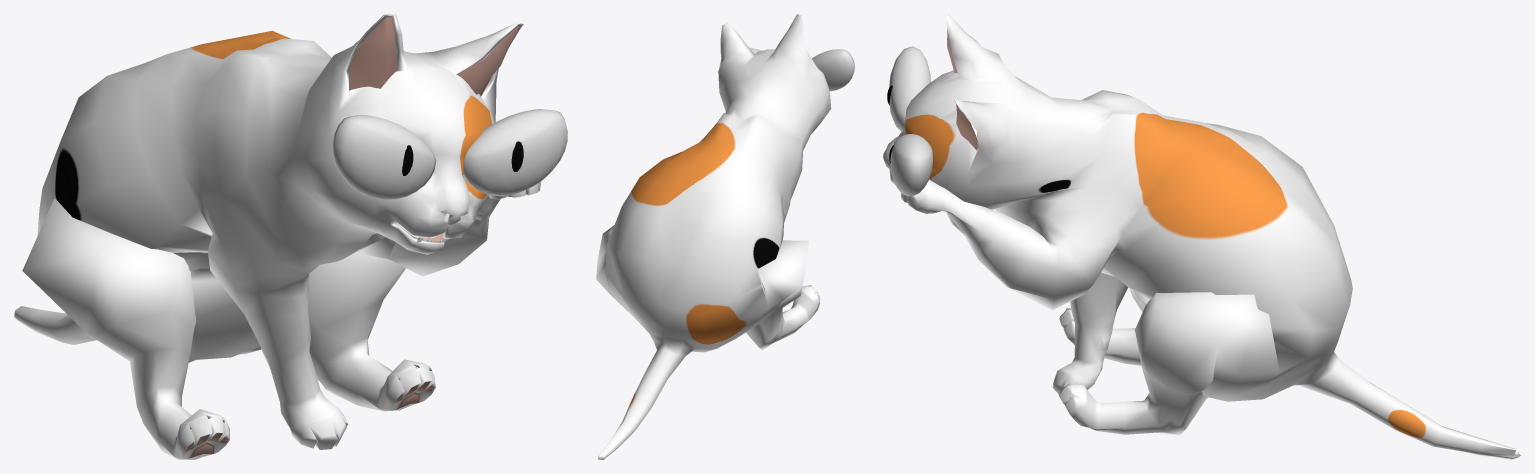
Rendered from Cat_Background_v1.fbx.
3 renders of one model, left to right at view 1: azimuth 30°, elevation 25°; view 2: azimuth 150°, elevation 25°; view 3: azimuth 270°, elevation 25°, orthographic. The views are drawn at different scales.
Visible parts, largest first — view 1: Cat_BackGround_V1; view 2: Cat_BackGround_V1; view 3: Cat_BackGround_V1.
Boxes of the visible parts, x1,y1,x2,y2 form: Cat_BackGround_V1: (14, 14, 567, 459); Cat_BackGround_V1: (596, 14, 854, 459); Cat_BackGround_V1: (883, 14, 1520, 459).
Bounding box in the file's own units: 2.05 × 3.88 × 2.96.
